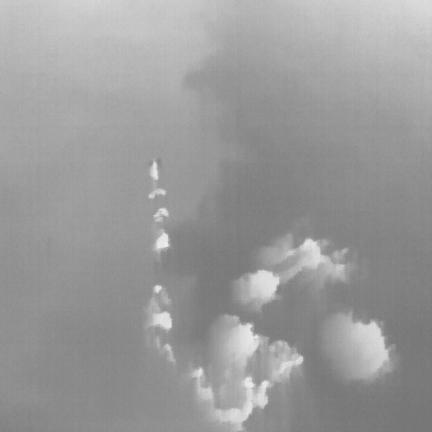flukeprints: (320, 312, 392, 381), (192, 368, 270, 430), (217, 315, 258, 364), (232, 270, 279, 311), (290, 239, 327, 268), (147, 311, 171, 330), (155, 230, 169, 250), (149, 159, 158, 181), (153, 208, 168, 221), (149, 187, 165, 198), (153, 287, 162, 294)
